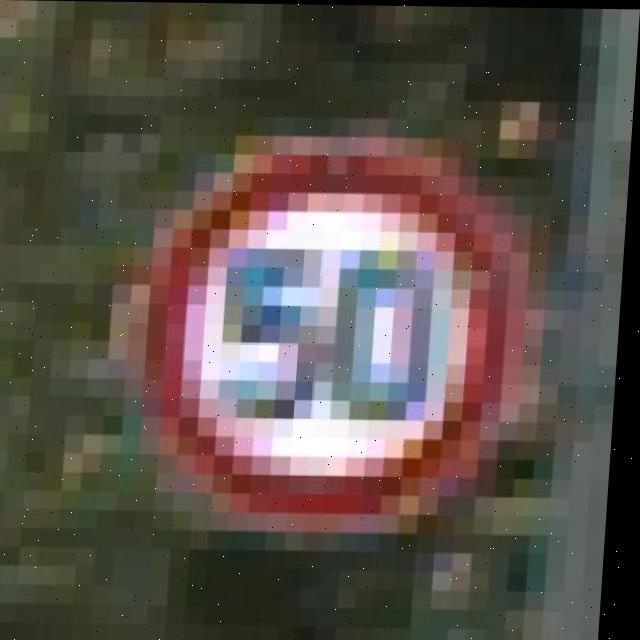Speed limit 50: (133, 128, 547, 537)
